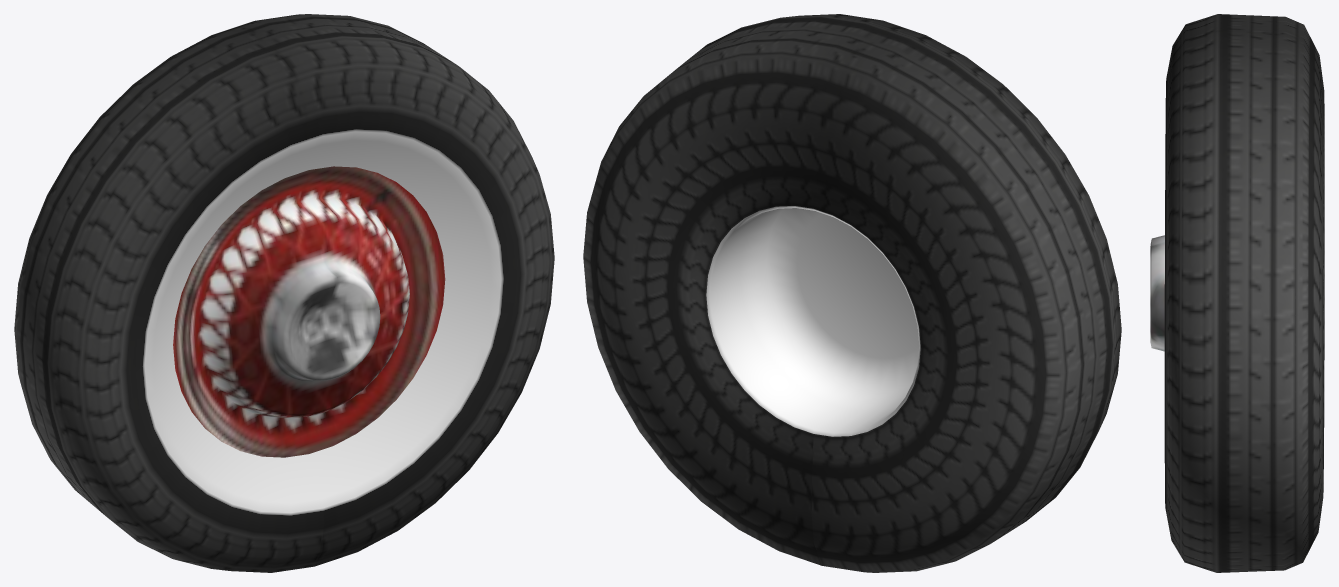
The model's file is llantaizq.obj.
3 views of the same model, side by side, from view 1: azimuth 30°, elevation 25°; view 2: azimuth 150°, elevation 25°; view 3: azimuth 270°, elevation 25° (orthographic). The views are drawn at different scales.
Parts seen in each view (by area): view 1: LowTire.001_Tire; view 2: LowTire.001_Tire; view 3: LowTire.001_Tire.
Boxes of the visible parts, x1,y1,x2,y2 form: LowTire.001_Tire: [14, 14, 554, 572]; LowTire.001_Tire: [583, 14, 1121, 572]; LowTire.001_Tire: [1150, 14, 1324, 572].
Size of the model in its own units: 0.6829 by 0.6829 by 0.2126.
